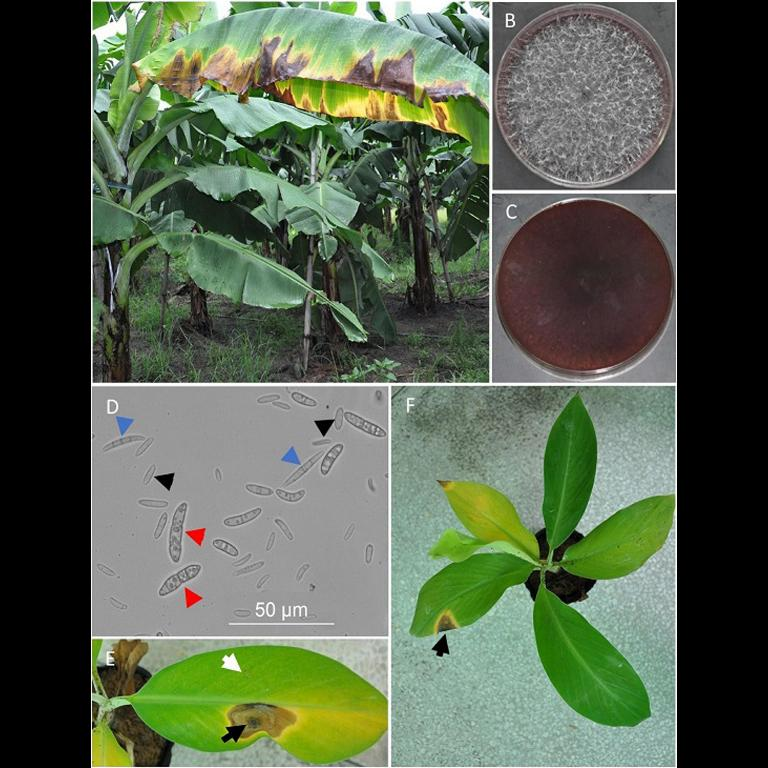blight: (166, 34, 302, 94), (342, 48, 434, 110)
